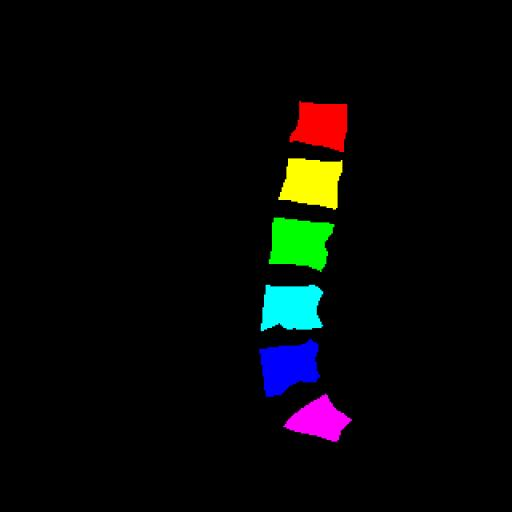L1: (290, 101, 347, 152)
L2: (279, 158, 342, 208)
L3: (269, 218, 334, 270)
L4: (261, 285, 323, 330)
L5: (259, 339, 321, 398)
S1: (282, 394, 351, 443)
